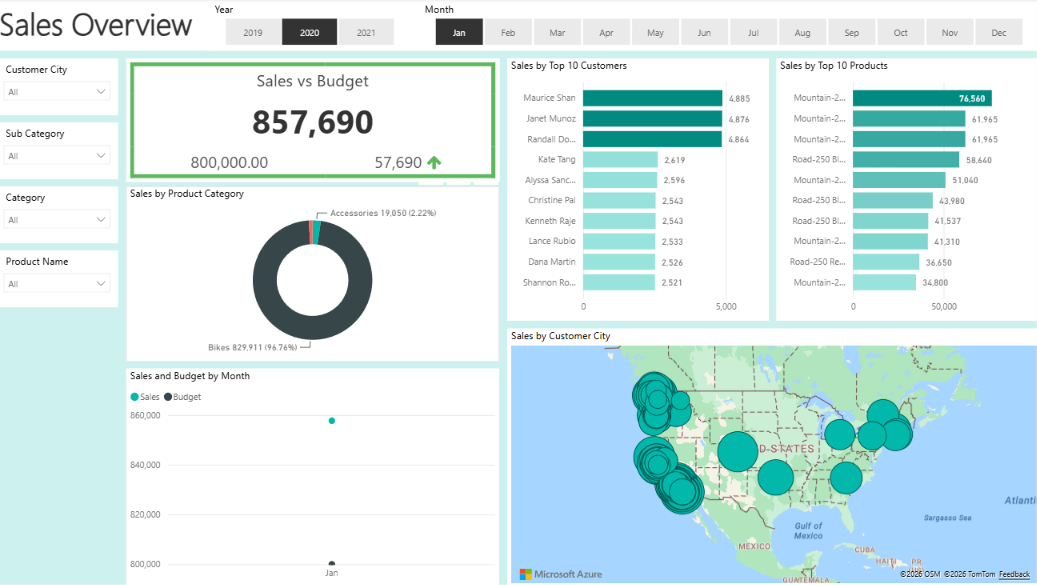

This screenshot's page, from the dashboard's own definition file:
{"tool":"powerbi","page":{"name":"Sales Overview","canvas":[1280,720],"ordinal":0},"visuals":[{"type":"shape","box":[0,73.7,115.5,647],"z":0},{"type":"textbox","box":[0,0,1280,64],"z":1000},{"type":"slicer","fields":{"Values":["DIM_Calendar.Year"]},"box":[255.6,0,256.8,63.6],"z":2000},{"type":"slicer","fields":{"Values":["DIM_Calendar.MonthShort"]},"box":[512,0,768,64],"z":3000},{"type":"slicer","fields":{"Values":["DIM_Customers.Customer City"]},"box":[0,114.1,115.5,79.3],"z":4000},{"type":"slicer","fields":{"Values":["DIM_Products.Product Category"]},"box":[0,271.3,115.5,79.3],"z":5000},{"type":"slicer","fields":{"Values":["DIM_Products.Product Name"]},"box":[0,350.6,115.5,91.8],"z":6000},{"type":"slicer","fields":{"Values":["DIM_Products.Sub Category"]},"box":[0,193.4,115.5,77.9],"z":7000},{"type":"barChart","title":"Sales by Top 10 Products","fields":{"Category":["DIM_Products.Product Name"],"Y":["Analysis Metrics.Sales"]},"box":[955.2,73,324.8,321.1],"z":8000},{"type":"lineChart","fields":{"Category":["DIM_Calendar.MonthShort"],"Y":["Analysis Metrics.Sales","Analysis Metrics.Budget"]},"box":[121,452.2,496.7,268.5],"z":9000},{"type":"barChart","title":"Sales by Top 10 Customers","fields":{"Category":["DIM_Customers.Full Name"],"Y":["Analysis Metrics.Sales"]},"box":[625.9,73,320.2,321.1],"z":10000},{"type":"donutChart","fields":{"Y":["Analysis Metrics.Sales"],"Series":["DIM_Products.Product Category"]},"box":[121,232.3,496.7,214.3],"z":11000},{"type":"azureMap","fields":{"Category":["DIM_Customers.Customer City"],"Size":["Analysis Metrics.Sales"]},"box":[625.9,403.3,654.1,316.6],"z":12000},{"type":"BBED0A4D4D8D44CE93CF2DAFADEE466C","fields":{"actual":["Analysis Metrics.Sales"],"target2":["Analysis Metrics.Sales / Budget"],"target1":["Analysis Metrics.Budget"]},"box":[121,73.7,496.7,150.3],"z":13000}]}

Visuals, with their boxes in screenshot pixels (x1, y1, x2, y2), scaled from the page's 1280x720 canvas onto the 1037x585 screenshot:
shape: 0/60/94/584
textbox: 0/0/1036/52
slicer - DIM_Calendar.Year: 207/0/415/52
slicer - DIM_Calendar.MonthShort: 415/0/1036/52
slicer - DIM_Customers.Customer City: 0/93/94/157
slicer - DIM_Products.Product Category: 0/220/94/285
slicer - DIM_Products.Product Name: 0/285/94/359
slicer - DIM_Products.Sub Category: 0/157/94/220
"Sales by Top 10 Products" barChart: 774/59/1036/320
lineChart - DIM_Calendar.MonthShort x Analysis Metrics.Sales: 98/367/500/584
"Sales by Top 10 Customers" barChart: 507/59/766/320
donutChart - Analysis Metrics.Sales x DIM_Products.Product Category: 98/189/500/363
azureMap - DIM_Customers.Customer City x Analysis Metrics.Sales: 507/328/1036/584
BBED0A4D4D8D44CE93CF2DAFADEE466C - Analysis Metrics.Sales x Analysis Metrics.Sales / Budget: 98/60/500/182
